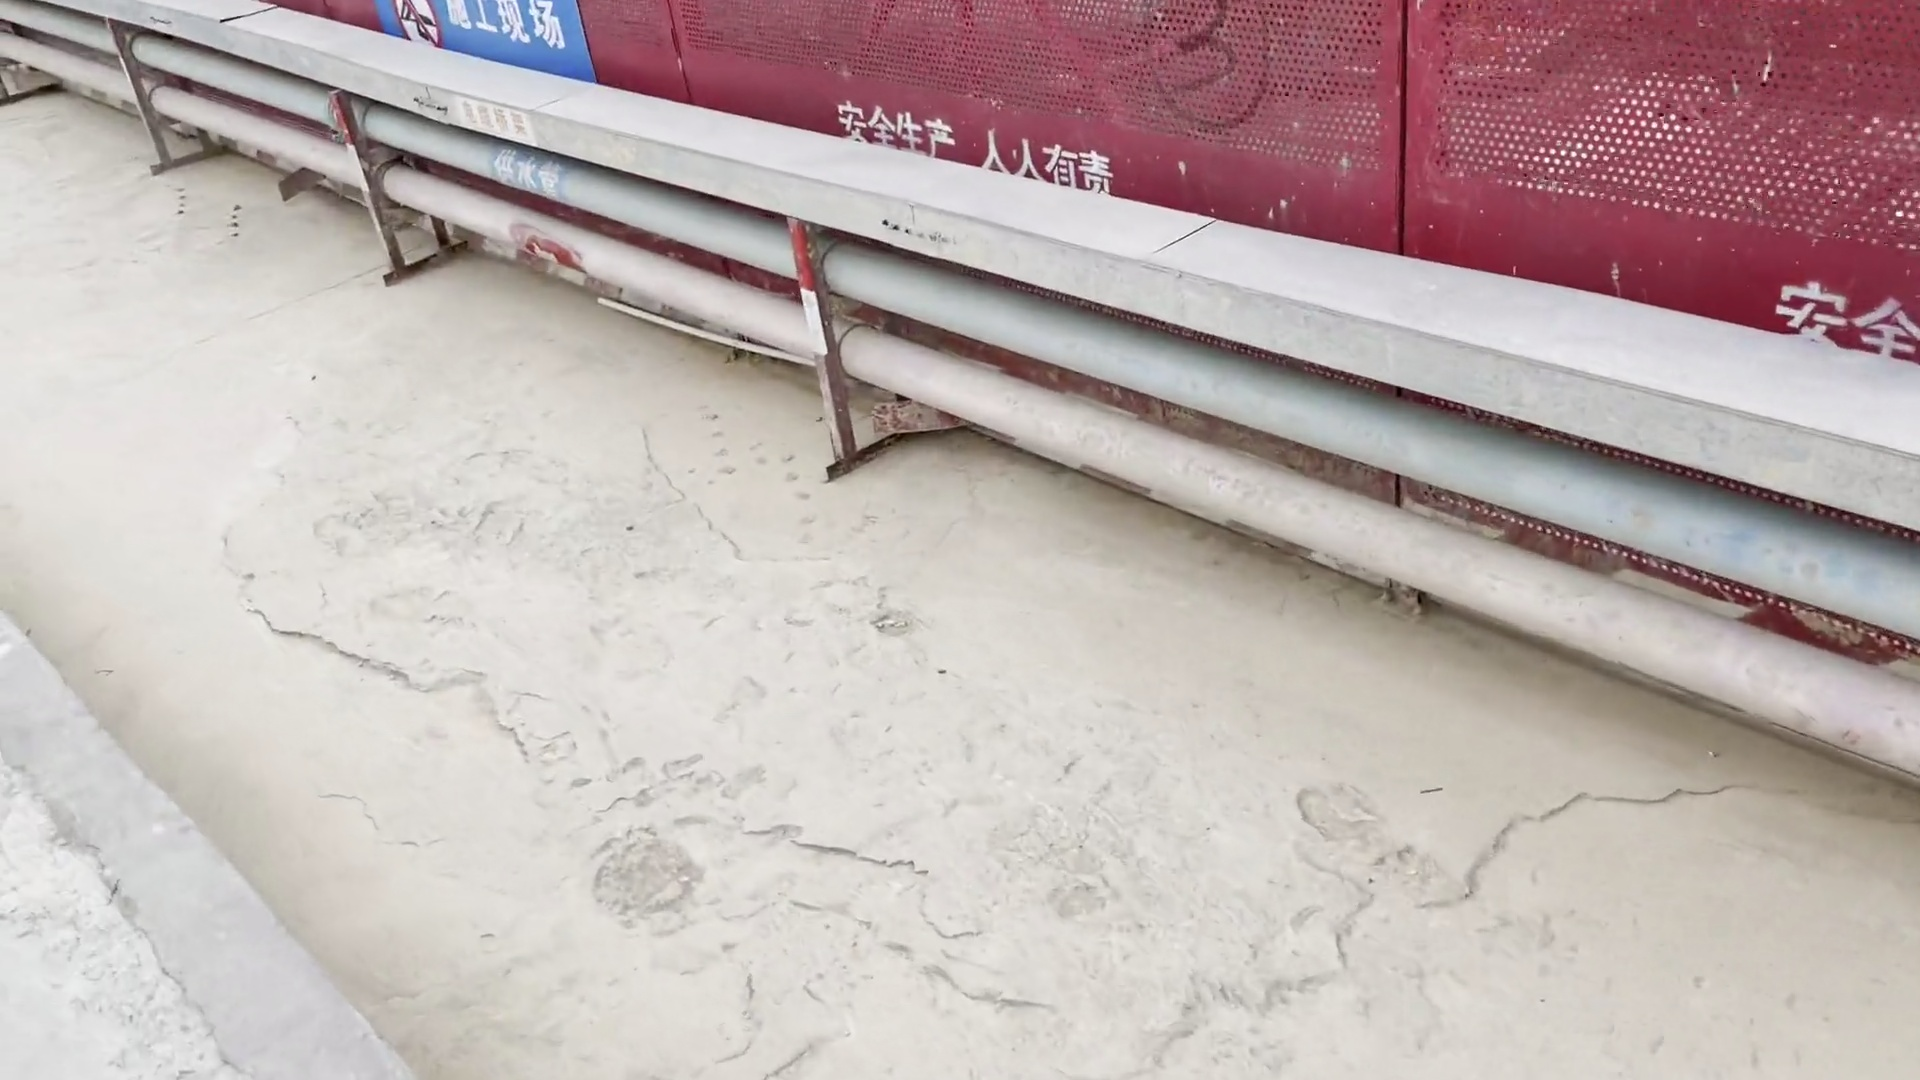fence: (276, 1, 1920, 384)
slogan: (357, 1, 654, 105), (436, 84, 583, 216)
